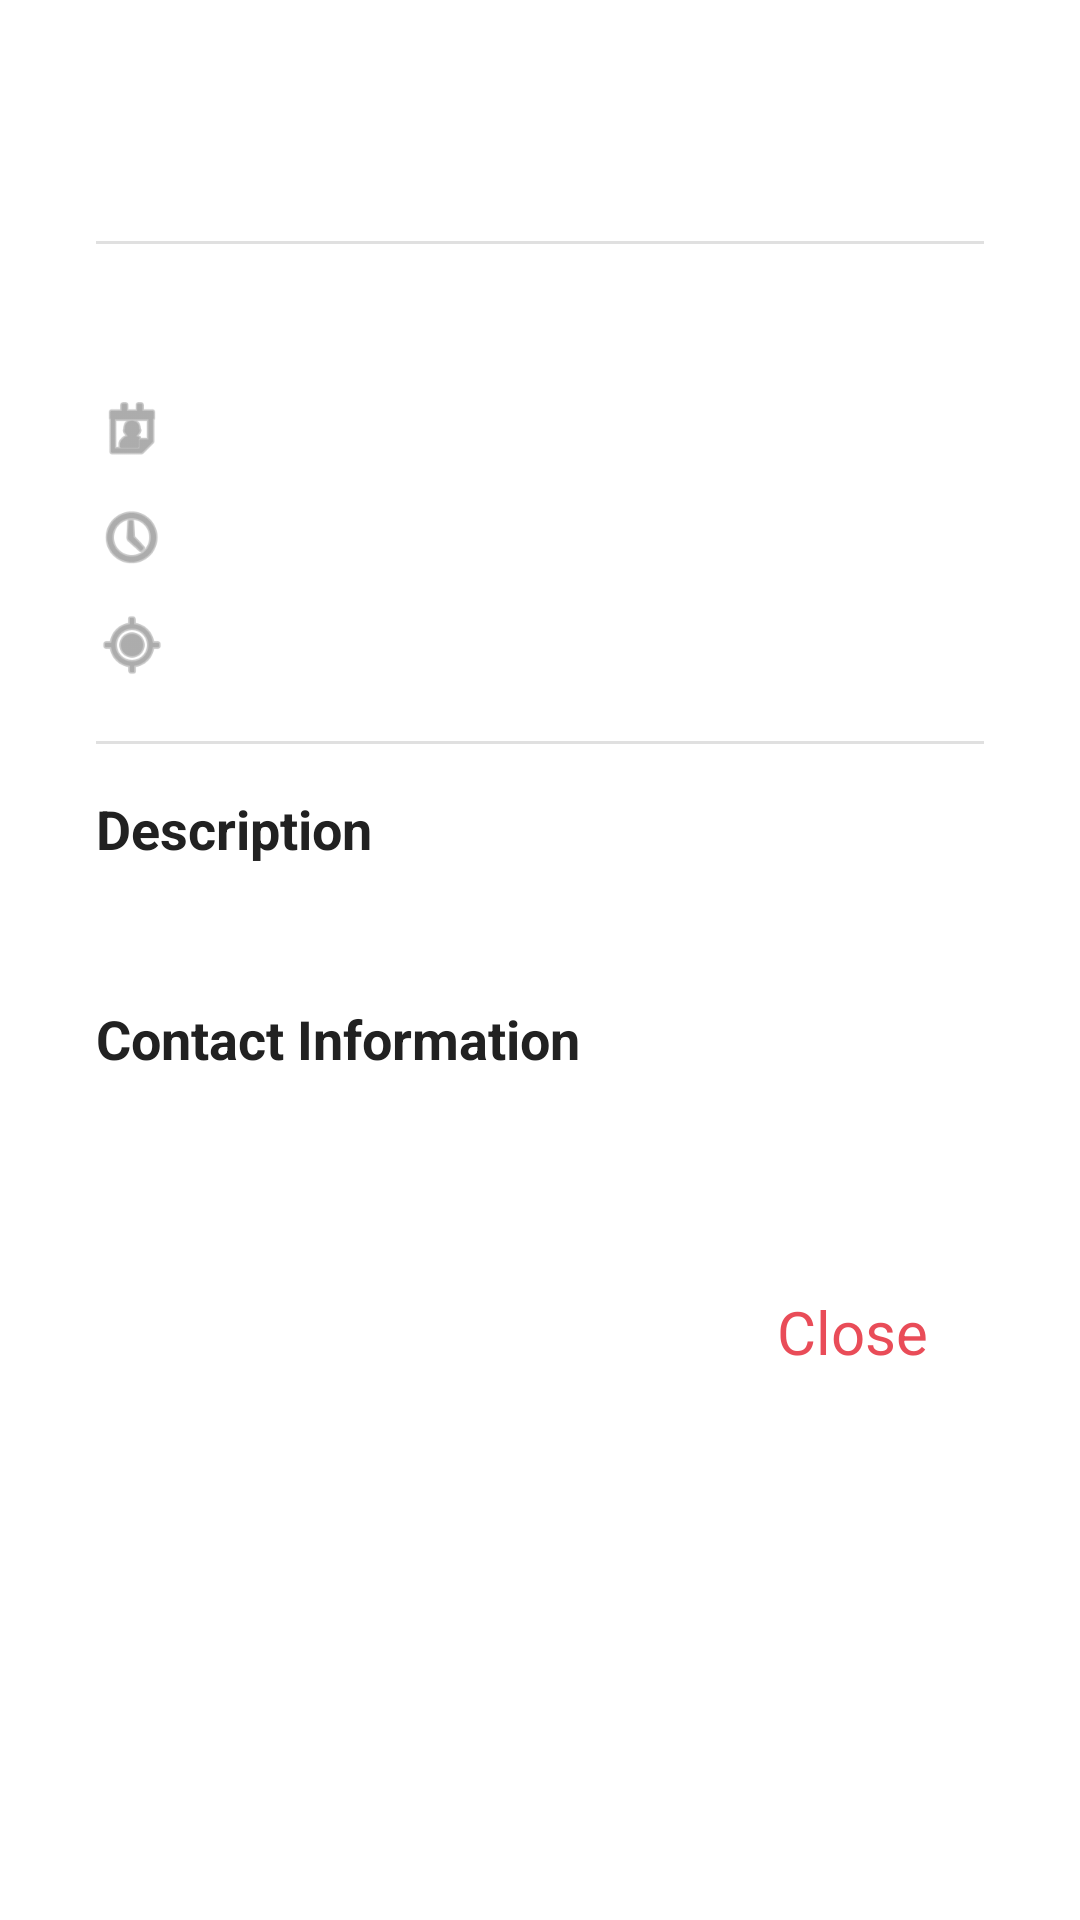

Where icons sit on this 1080px x 1920px app screen, as region(x1, y1, x2, y2):
calendar: region(109, 402, 155, 454)
mylocation: region(103, 616, 161, 674)
recent history: region(106, 511, 158, 563)
